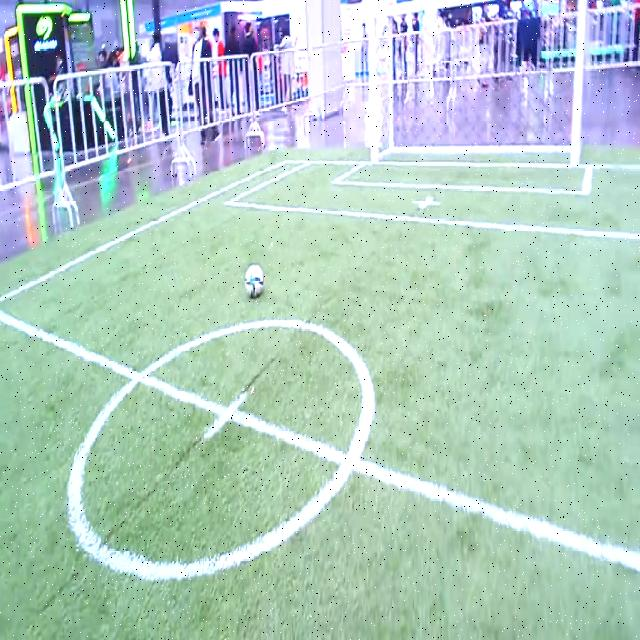ball: (244, 264, 264, 298)
